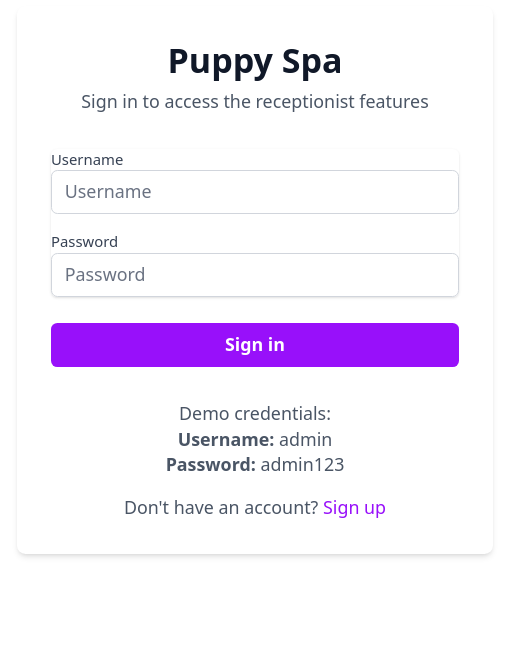
Test: LoginPage › should display error message on login failure
// Fill in the form
Type "testuser" into the field labelled "Username" at (255, 192), box [51, 170, 459, 214]
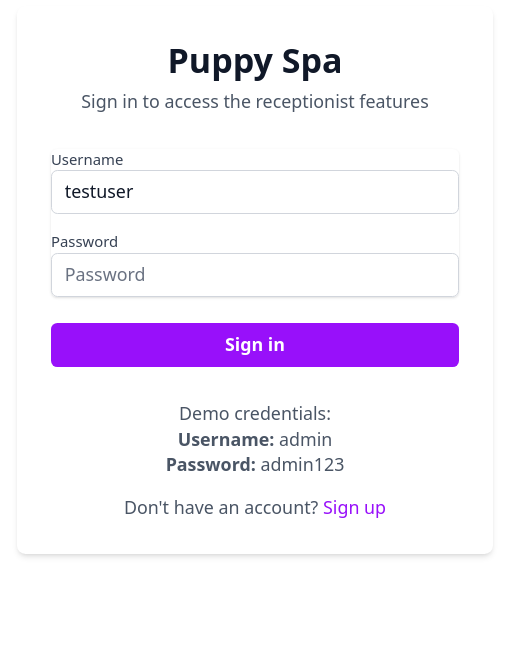
Type "wrongpassword" into the password field labelled "Password" at (255, 275), box [51, 253, 459, 297]
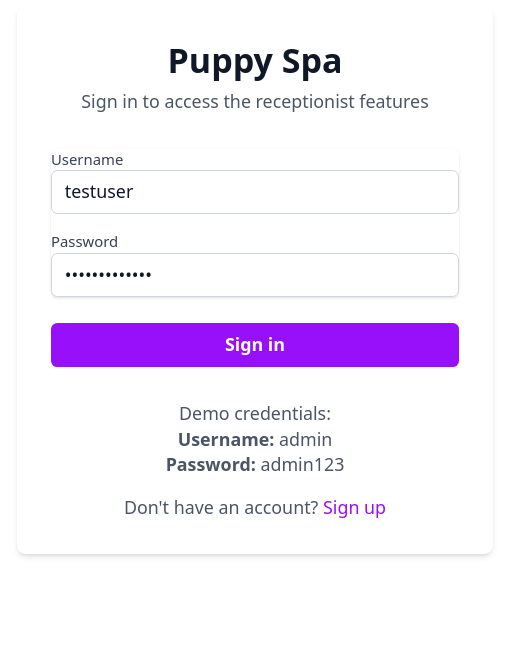
// Submit the form
Click the button "Sign in" at (255, 345), box [51, 323, 459, 367]
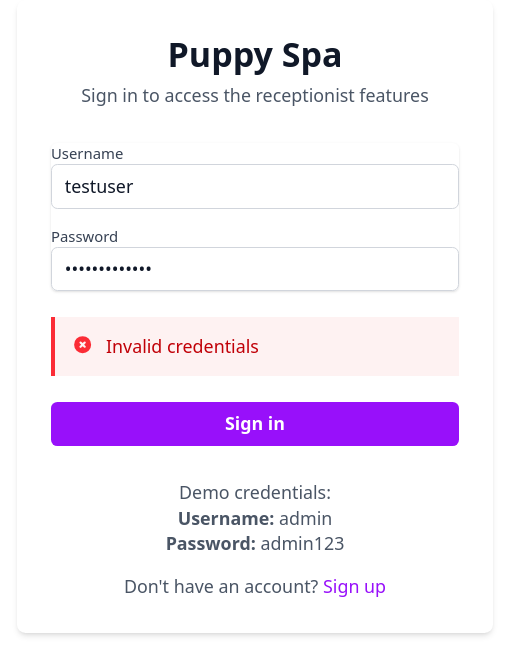
Check: the text "Invalid credentials" is shown, box [106, 334, 259, 359]
